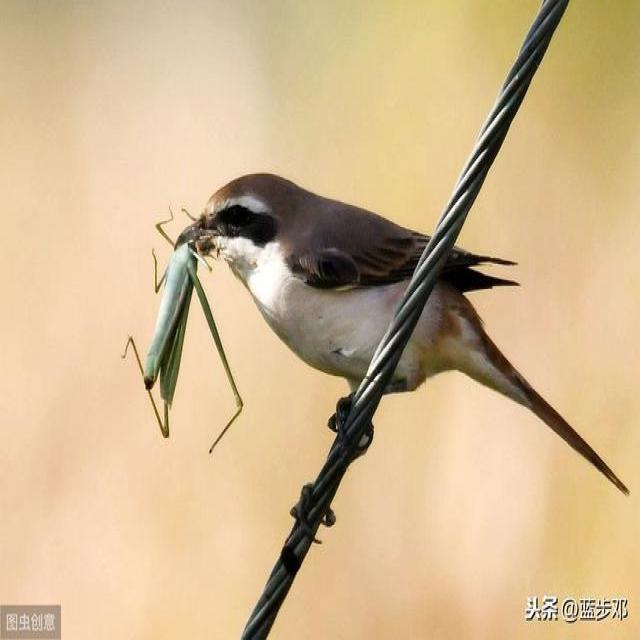ZhaMeng: (125, 218, 232, 442)
